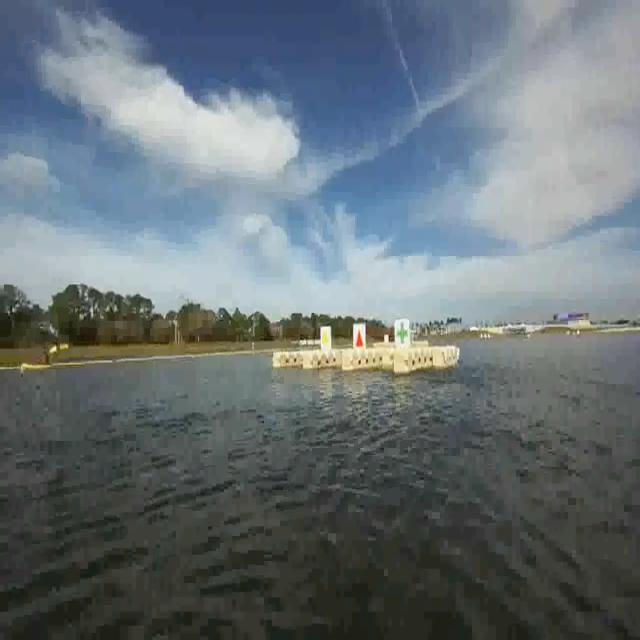blue-cross: (395, 322, 410, 352)
red-dot: (352, 324, 368, 355)
yellow-duck: (321, 327, 333, 352)
